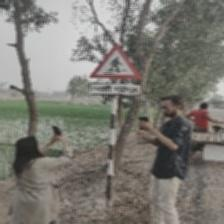Pedestrian-crossing: (87, 44, 143, 97)
